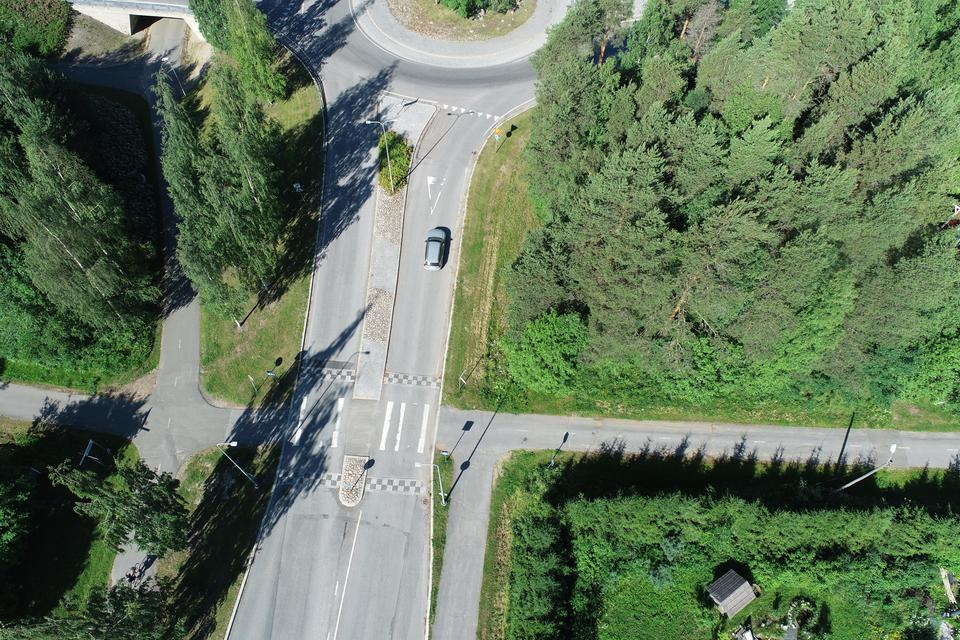intersection: (225, 368, 537, 514)
roundabout: (236, 0, 647, 158)
